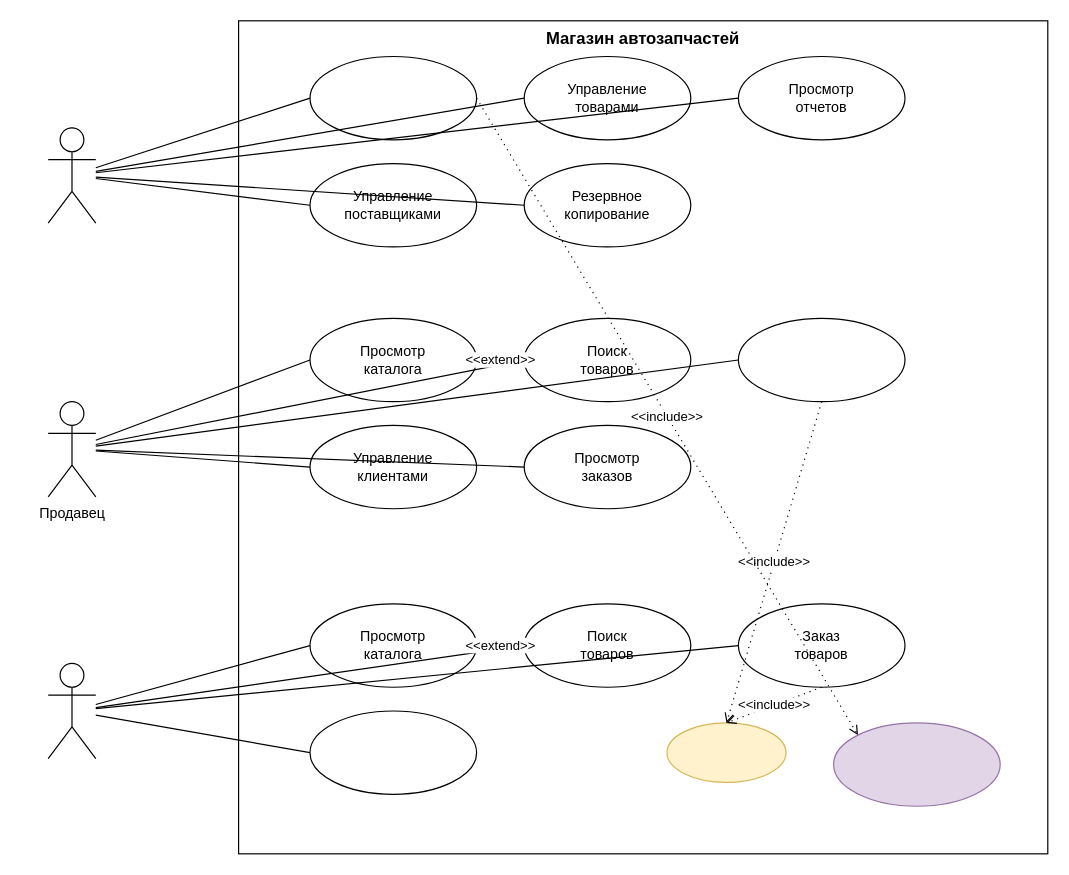
Image size: 1069x875. Some labels were removed from this diagram. The shapes that lost their labels are listed below. From the top down, each one's box as (x1, y1, x2, y2) in pixels, then its label:
(309, 55, 477, 140): Управление пользователями
(47, 127, 96, 223): Администратор
(737, 317, 905, 402): Оформление заказа
(47, 662, 96, 759): Клиент
(309, 710, 477, 794): Мои заказы
(666, 722, 786, 782): Валидация данных
(832, 722, 1000, 806): Авторизация
